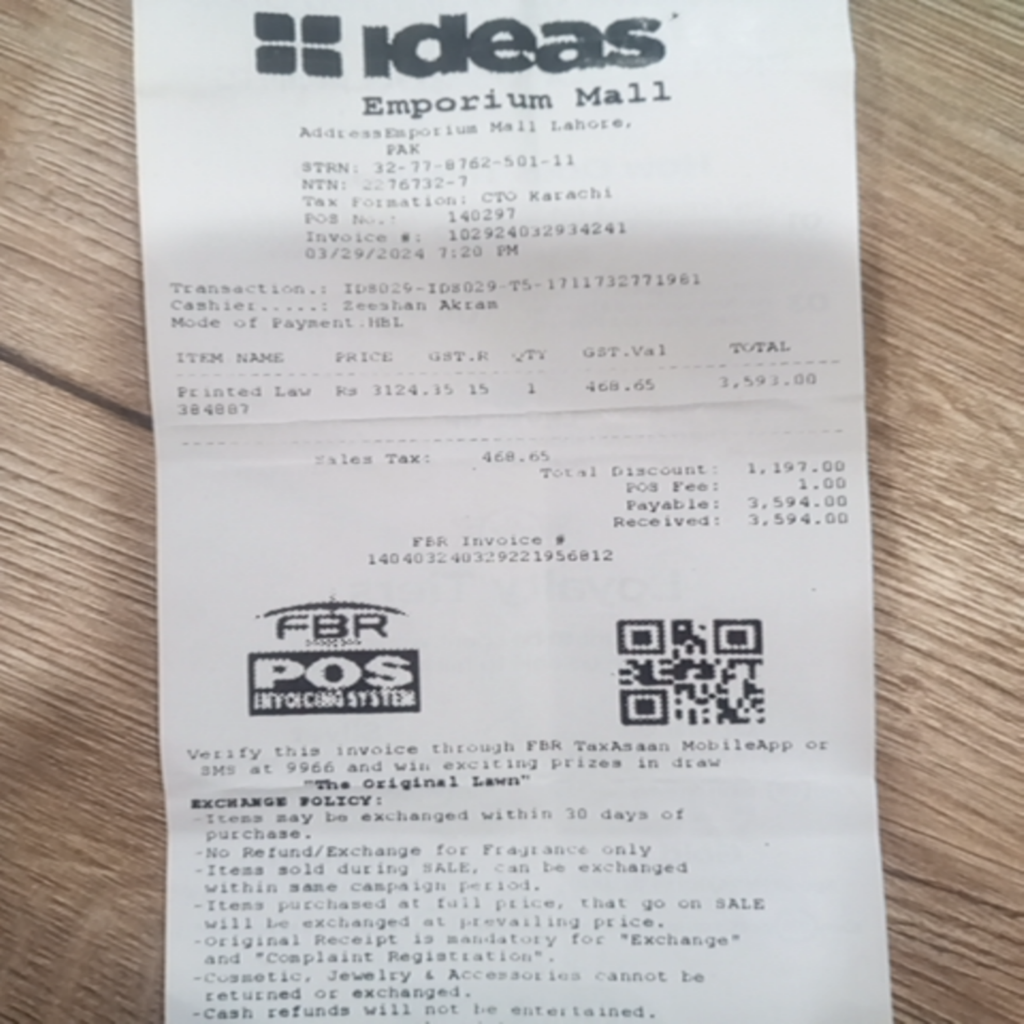recipt: (134, 0, 890, 1013)
